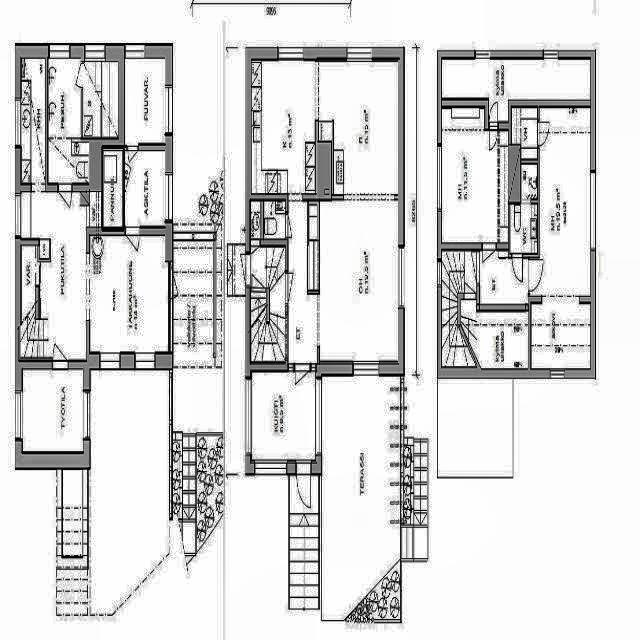room: (320, 201, 398, 361), (21, 192, 86, 359), (90, 236, 168, 351), (442, 109, 508, 242), (23, 371, 82, 451), (125, 59, 165, 142), (22, 59, 45, 182), (125, 153, 164, 225), (82, 62, 118, 137), (480, 251, 528, 304), (49, 59, 81, 137), (48, 139, 88, 182), (103, 149, 122, 226), (511, 107, 537, 160), (264, 202, 285, 238), (250, 201, 260, 239)
